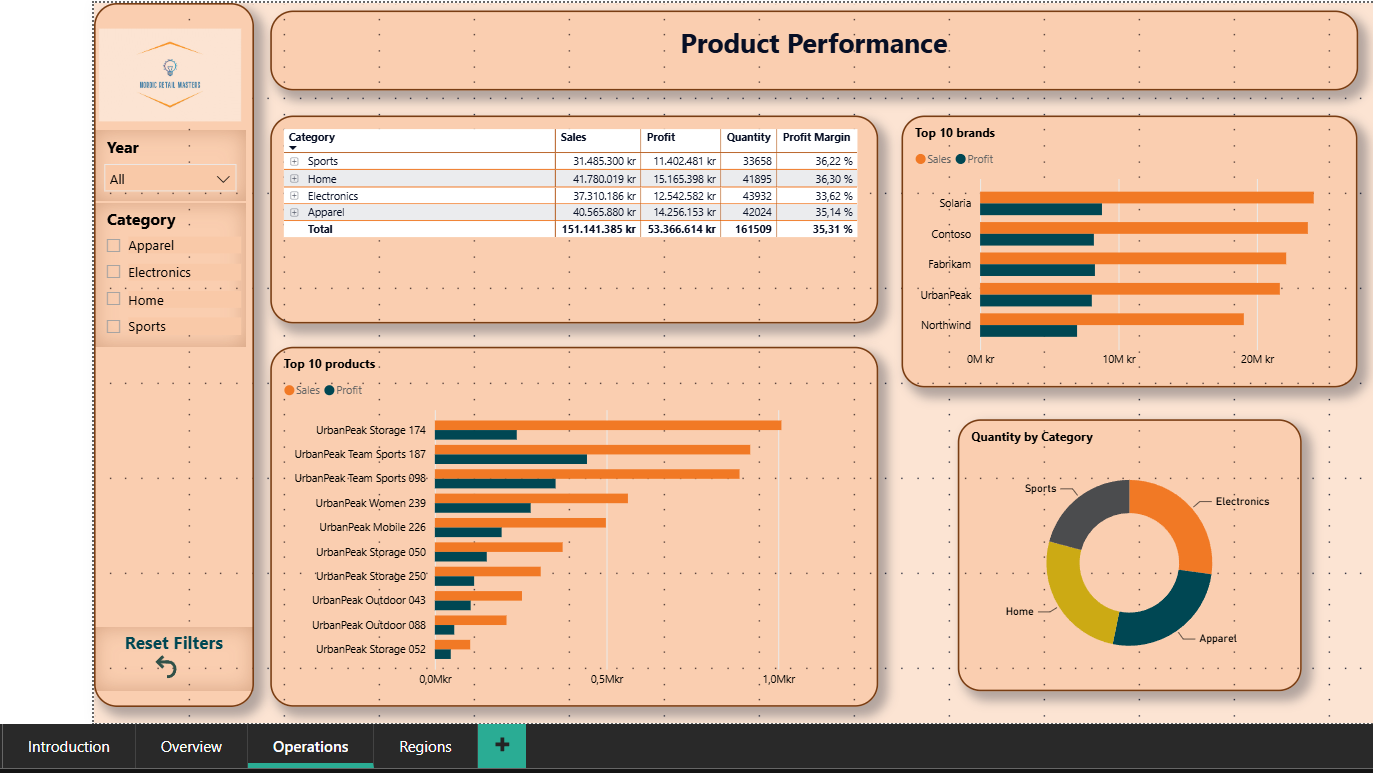

What the dashboard file says about the page in this screenshot:
{"tool":"powerbi","page":{"name":"Operations","canvas":[1280,720],"ordinal":2},"visuals":[{"type":"image","box":[0,0,152,144],"z":0},{"type":"actionButton","title":"pil knapp","box":[56,648,32,32],"z":1000},{"type":"textbox","title":"Title Overview","box":[176,8,1088,80],"z":2000},{"type":"shape","title":"Main side-bar","box":[0,0,160,704],"z":3000},{"type":"slicer","title":"Slicer-Brand","fields":{"Values":["Date.Year"]},"box":[0,128,152,70],"z":4000},{"type":"slicer","title":"Slicer-Year","fields":{"Values":["DimProductCategory.CategoryName"]},"box":[0,200,152,144],"z":5000},{"type":"pivotTable","fields":{"Values":["_Measures (2).Sales","_Measures (2).Profit","_Measuresss.Quantity","_Measuresss.Margin %"],"Rows":["DimProductCategory.CategoryName","DimProductSubcategory.SubcategoryName","DimProducts.ProductName"]},"box":[176,112,608,208],"z":6000},{"type":"clusteredBarChart","title":"Top 10 products","fields":{"Category":["DimProducts.ProductName"],"Y":["_Measuresss.Sales","_Measuresss.Profit"]},"box":[176,344,608,360],"z":7000},{"type":"clusteredBarChart","title":"Top 10 brands","fields":{"Category":["DimProducts.Brand"],"Y":["_Measuresss.Sales","_Measuresss.Profit"]},"box":[808,112,456,272],"z":8000},{"type":"donutChart","title":"Quantity by Category","fields":{"Category":["DimProductCategory.CategoryName"],"Y":["_Measuresss.Quantity"]},"box":[864,416,344,272],"z":9000},{"type":"actionButton","title":"Reset Button","box":[0,624,160,64],"z":10000}]}

Visuals, with their boxes on the page's 1280x720 design canvas (x1, y1, x2, y2). These are canvas units, not pixel positions in the 1373x773 screenshot, which may show the page scaled, cropped or inside an application window:
image: 0,0,152,144
"pil knapp" actionButton: 56,648,88,680
"Title Overview" textbox: 176,8,1264,88
"Main side-bar" shape: 0,0,160,704
"Slicer-Brand" slicer: 0,128,152,198
"Slicer-Year" slicer: 0,200,152,344
pivotTable - _Measures (2).Sales x _Measures (2).Profit: 176,112,784,320
"Top 10 products" clusteredBarChart: 176,344,784,704
"Top 10 brands" clusteredBarChart: 808,112,1264,384
"Quantity by Category" donutChart: 864,416,1208,688
"Reset Button" actionButton: 0,624,160,688
